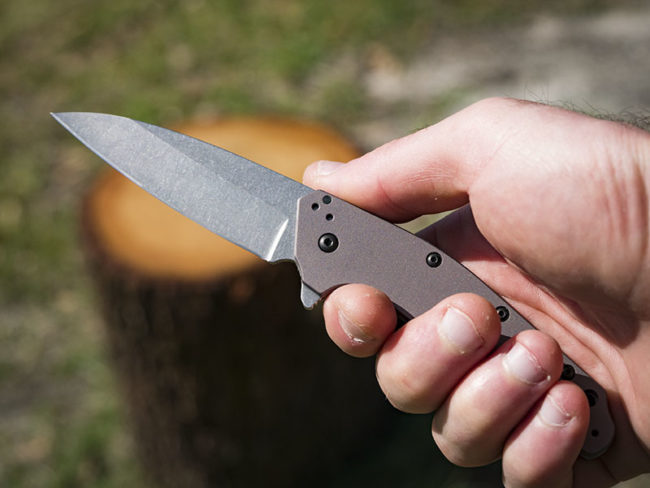knife: (38, 91, 467, 355)
